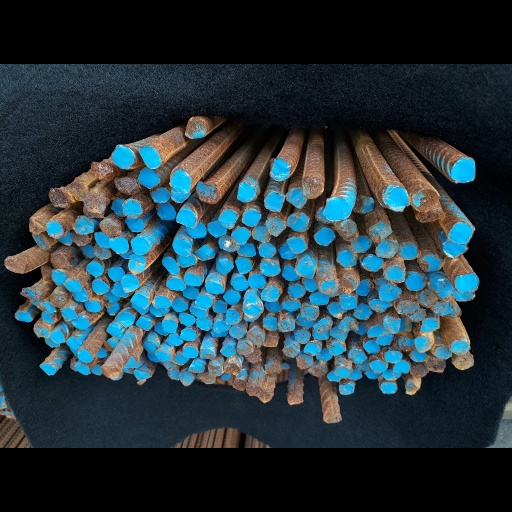dipstick: (382, 185, 408, 210), (111, 145, 135, 169), (451, 158, 475, 182), (325, 197, 349, 220), (196, 181, 219, 204), (139, 145, 161, 169), (412, 190, 438, 210), (48, 187, 72, 208), (449, 222, 473, 243), (170, 170, 191, 193), (90, 161, 114, 181), (454, 273, 479, 292), (138, 168, 160, 188), (429, 277, 452, 296), (270, 159, 290, 180), (184, 119, 206, 138), (287, 212, 309, 231), (405, 272, 427, 291), (337, 219, 357, 239), (115, 177, 137, 195), (369, 222, 391, 240), (376, 240, 398, 258), (419, 254, 441, 272), (68, 181, 87, 201), (85, 193, 105, 212), (264, 192, 284, 211), (315, 227, 335, 246), (73, 215, 94, 233), (295, 261, 316, 279), (303, 176, 321, 197), (398, 242, 419, 260), (237, 183, 256, 202), (266, 217, 285, 236), (444, 243, 468, 258), (379, 284, 400, 301), (353, 196, 374, 213), (100, 219, 122, 235), (123, 199, 141, 218), (131, 237, 150, 255), (177, 209, 196, 227), (241, 208, 260, 226), (337, 250, 356, 268), (288, 187, 306, 206), (5, 257, 25, 274), (156, 204, 176, 221), (384, 266, 405, 282), (29, 215, 47, 233), (416, 210, 443, 222), (47, 219, 64, 238), (129, 254, 146, 273), (173, 239, 192, 256), (352, 236, 372, 252), (362, 255, 382, 271), (383, 316, 401, 333), (109, 237, 128, 253), (339, 277, 358, 293), (150, 188, 170, 203), (32, 234, 52, 249), (287, 237, 307, 252), (260, 261, 280, 276), (398, 300, 418, 315), (449, 339, 469, 354), (87, 261, 104, 278), (123, 275, 140, 292), (252, 226, 270, 242), (282, 265, 300, 281), (421, 317, 439, 333), (418, 291, 437, 306), (243, 301, 263, 315), (426, 358, 446, 372), (248, 329, 264, 346), (235, 258, 252, 274), (234, 227, 251, 243), (221, 211, 238, 227), (328, 302, 345, 318), (356, 280, 373, 296), (51, 253, 69, 268), (117, 312, 135, 327), (106, 323, 124, 338), (208, 221, 226, 236), (279, 244, 297, 259), (319, 279, 337, 294), (415, 337, 433, 352), (187, 223, 206, 237), (184, 272, 203, 286), (163, 258, 179, 274), (230, 323, 246, 339), (216, 258, 232, 274), (354, 304, 370, 320), (259, 243, 276, 258), (288, 283, 305, 298), (369, 300, 392, 311), (171, 189, 190, 202), (21, 287, 40, 300), (219, 238, 238, 251), (409, 364, 428, 377), (111, 197, 123, 217), (171, 297, 187, 312), (453, 358, 473, 370), (108, 267, 125, 281), (196, 246, 213, 260), (248, 274, 265, 288), (262, 287, 279, 301), (301, 305, 318, 319), (330, 327, 347, 341), (126, 218, 144, 231), (205, 280, 223, 293), (348, 349, 366, 362), (434, 302, 452, 315), (71, 234, 92, 245), (167, 278, 186, 290), (310, 293, 329, 305), (94, 232, 109, 247), (208, 360, 223, 375), (226, 309, 241, 324), (232, 276, 247, 291), (50, 292, 66, 306), (92, 280, 108, 294), (34, 323, 50, 337), (224, 291, 240, 305), (294, 329, 310, 343), (340, 294, 356, 308), (190, 306, 207, 319), (195, 295, 212, 308), (278, 318, 295, 331), (282, 344, 299, 357), (303, 342, 320, 355), (398, 338, 415, 351), (38, 302, 56, 314), (178, 255, 196, 267), (238, 244, 256, 256), (339, 318, 357, 330), (407, 309, 425, 321), (282, 300, 301, 311), (368, 326, 387, 337), (77, 349, 93, 362), (102, 365, 118, 378), (297, 355, 313, 368), (452, 292, 475, 301), (94, 247, 111, 259), (131, 294, 148, 306), (385, 350, 402, 362), (434, 346, 451, 358), (15, 311, 33, 322), (153, 296, 171, 307), (309, 365, 327, 376), (143, 340, 157, 354), (405, 380, 419, 394), (113, 284, 128, 297), (136, 316, 151, 329), (221, 344, 236, 357), (183, 285, 198, 298), (262, 317, 277, 330), (364, 340, 379, 353), (59, 230, 71, 246), (65, 279, 81, 291), (39, 363, 55, 375), (181, 329, 197, 341), (196, 319, 212, 331), (314, 319, 330, 331), (380, 382, 396, 394), (409, 351, 428, 361), (224, 363, 241, 374), (370, 361, 387, 372), (80, 245, 94, 258), (53, 270, 66, 284), (155, 322, 168, 336), (180, 372, 194, 385), (73, 289, 88, 301), (75, 363, 90, 375), (150, 307, 170, 316), (264, 302, 282, 312), (329, 342, 344, 354), (296, 318, 314, 328), (304, 277, 316, 292), (85, 301, 101, 312), (61, 308, 77, 319), (74, 318, 90, 329), (166, 335, 182, 346), (179, 314, 195, 325), (189, 361, 205, 372), (200, 348, 216, 359), (200, 373, 216, 384), (324, 413, 341, 423), (105, 302, 118, 315), (238, 342, 252, 354), (247, 350, 261, 362), (183, 346, 198, 357), (339, 383, 354, 394), (317, 349, 332, 360), (377, 333, 392, 344), (383, 370, 401, 379), (265, 363, 281, 373), (393, 362, 409, 372), (104, 339, 117, 351), (164, 320, 177, 332), (214, 300, 227, 312), (41, 266, 52, 280), (173, 353, 187, 364), (247, 385, 261, 396), (401, 319, 412, 333), (134, 370, 151, 379), (287, 395, 304, 404), (156, 351, 171, 361), (132, 305, 148, 314), (364, 370, 380, 379), (51, 332, 65, 342), (337, 368, 351, 378), (356, 321, 366, 335), (124, 356, 136, 367), (168, 369, 180, 380), (234, 379, 246, 390), (262, 390, 273, 402), (328, 370, 340, 381), (106, 292, 119, 302), (264, 336, 277, 346), (357, 360, 370, 370), (43, 313, 57, 322), (215, 322, 229, 331), (44, 338, 59, 346), (351, 370, 362, 380), (211, 331, 228, 337), (96, 348, 106, 357), (92, 365, 101, 375), (148, 354, 159, 362)
